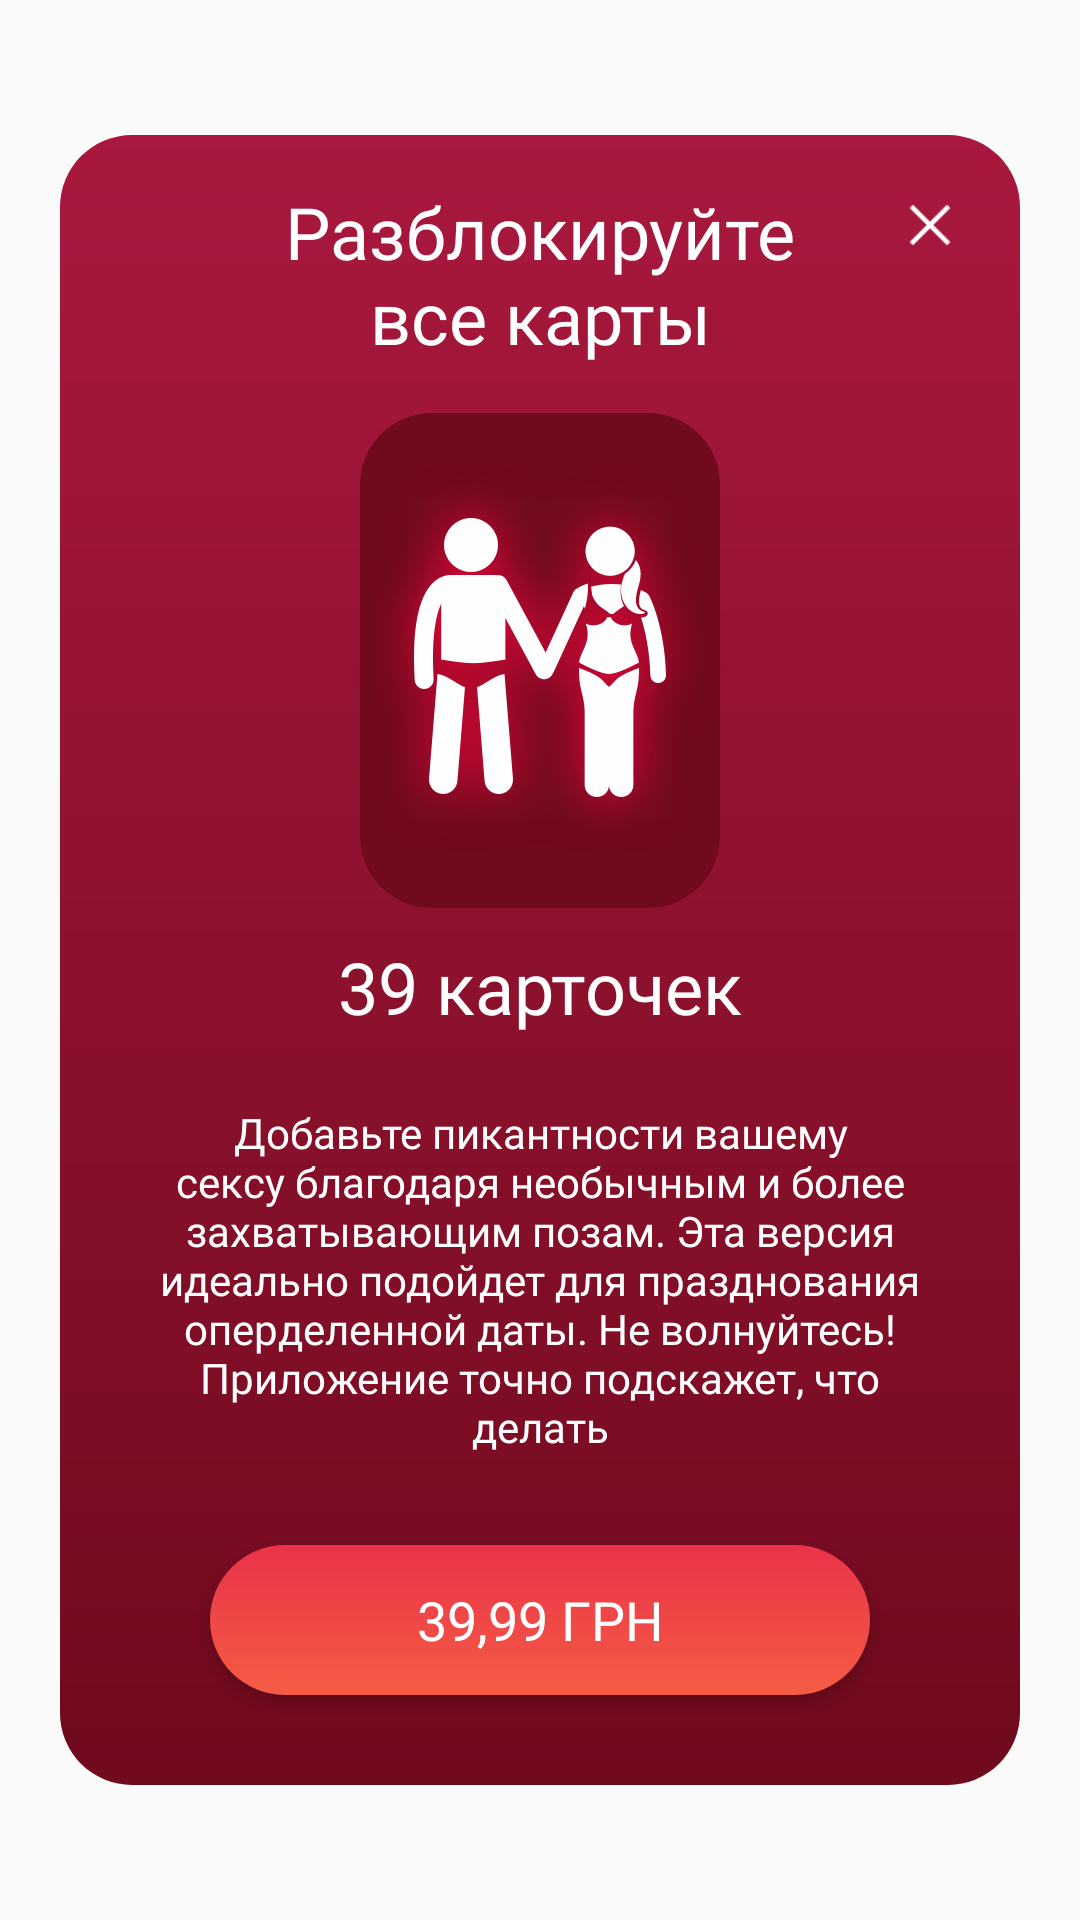

Where to tap for icons on this 1080 x 1920 app screen, as [x,y]:
close: [930,225]
